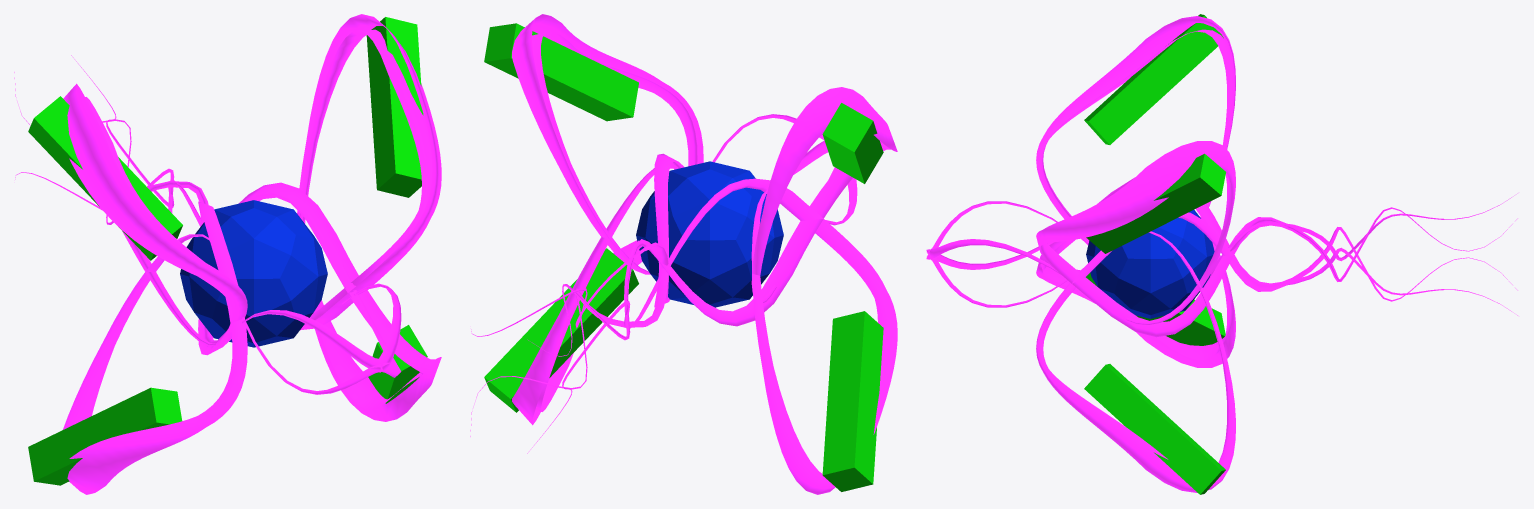
Rendered from mediumfish.fbx.
3 renders of one model, left to right at view 1: azimuth 30°, elevation 25°; view 2: azimuth 150°, elevation 25°; view 3: azimuth 270°, elevation 25°, orthographic. The views are drawn at different scales.
Visible parts, largest first — view 1: BezierCurve, Cube.001, space; view 2: BezierCurve, Cube.001, space; view 3: BezierCurve, Cube.001, space.
Part boxes in pixels (x1,y1,x2,y2): BezierCurve: (14,14,441,494); Cube.001: (28,17,427,485); space: (180,200,327,347); BezierCurve: (470,14,897,494); Cube.001: (484,23,883,491); space: (636,161,783,307); BezierCurve: (926,16,1517,492); Cube.001: (1084,14,1225,494); space: (1086,210,1214,318).
Bounding box in the file's own units: 119 × 119 × 182.
